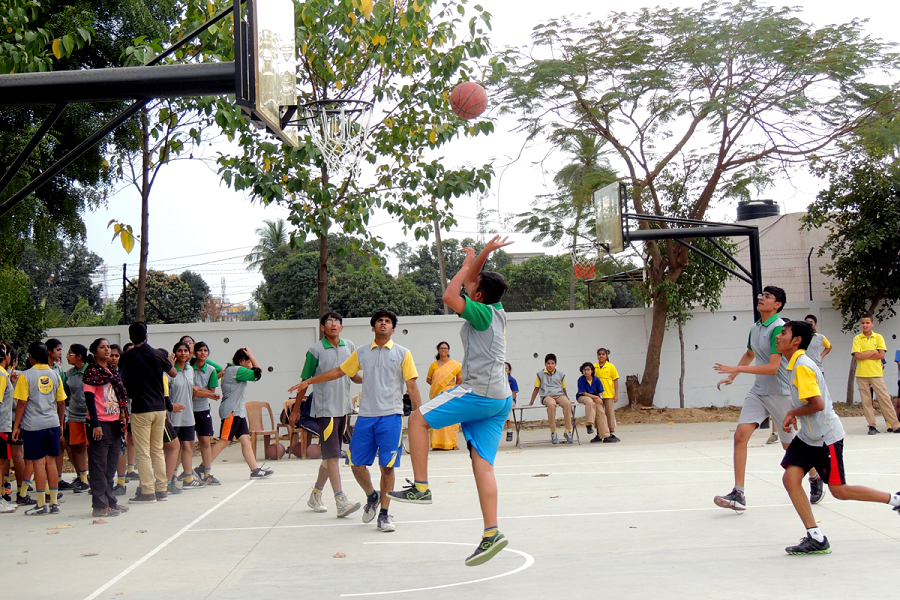ball: (446, 82, 489, 120)
basket: (297, 98, 370, 168)
player: (395, 234, 513, 566), (767, 324, 872, 559), (316, 312, 417, 532), (719, 286, 798, 512), (289, 311, 362, 521)
